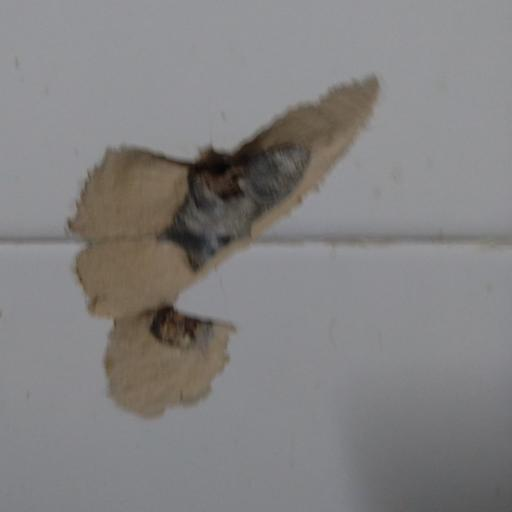spalling: (59, 59, 391, 431)
